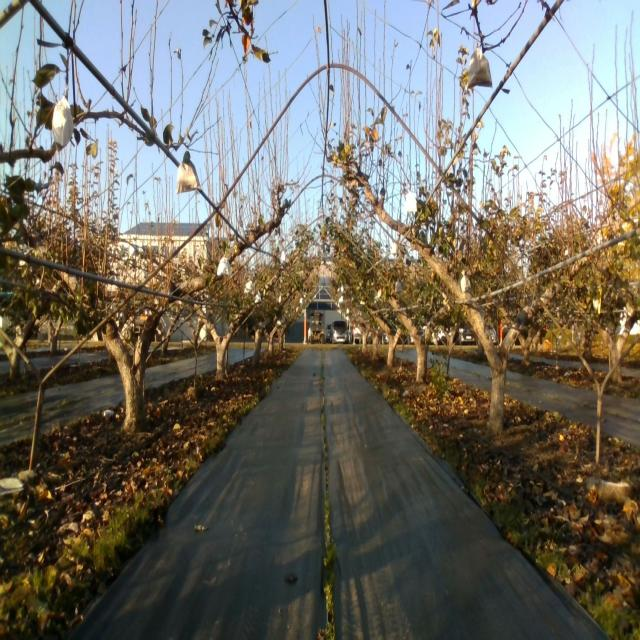pearbags: (464, 43, 494, 92), (51, 89, 72, 147), (178, 151, 202, 191), (404, 186, 417, 212), (217, 254, 231, 276), (460, 270, 470, 293)
